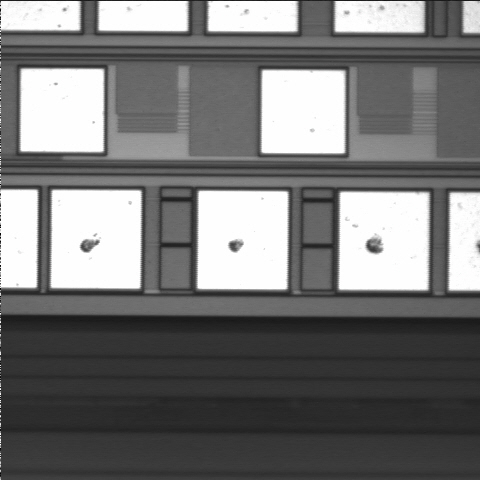pad: (51, 190, 141, 289), (198, 191, 288, 289), (339, 192, 429, 290), (21, 69, 104, 152), (262, 70, 345, 153)
